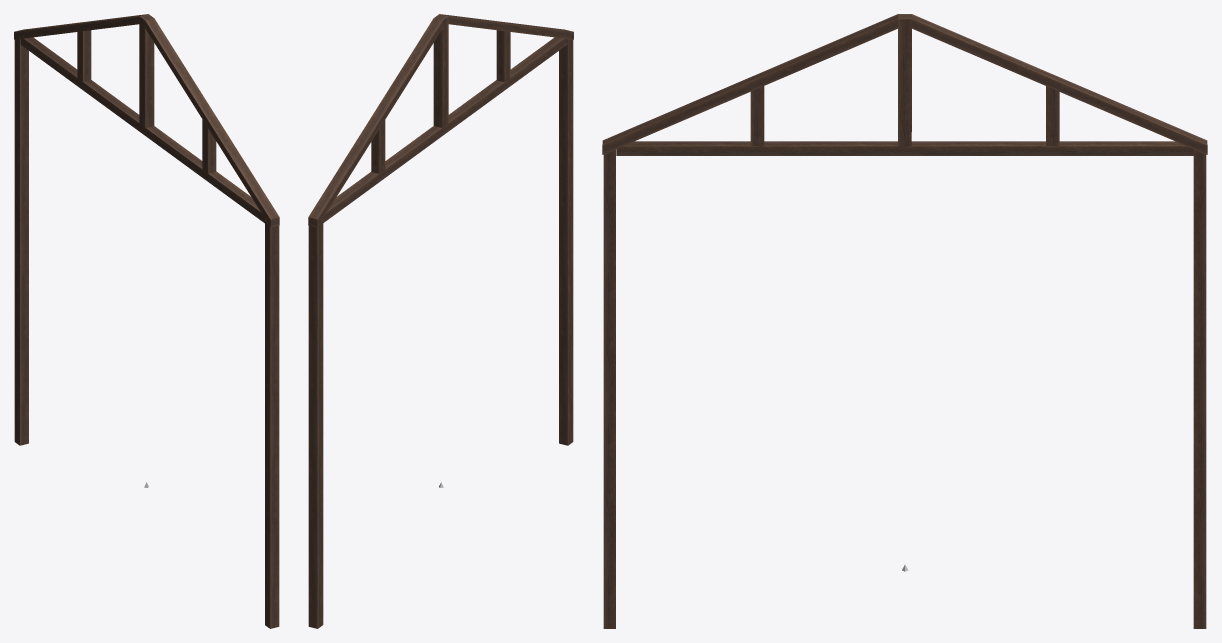
File: yane_frame_4t_a12f_3.fbx
The picture shows the model from 3 angles, left to right: view 1: azimuth 30°, elevation 25°; view 2: azimuth 150°, elevation 25°; view 3: azimuth 270°, elevation 25°; orthographic projection. The views are drawn at different scales.
Parts seen in each view (by area): view 1: yane_frame_4t_a12f_3; view 2: yane_frame_4t_a12f_3; view 3: yane_frame_4t_a12f_3.
Boxes of the visible parts, x1,y1,x2,y2 form: yane_frame_4t_a12f_3: (14, 14, 279, 628); yane_frame_4t_a12f_3: (308, 14, 573, 628); yane_frame_4t_a12f_3: (602, 14, 1207, 628).
Size of the model in its own units: 18.5 by 1003 by 902.
